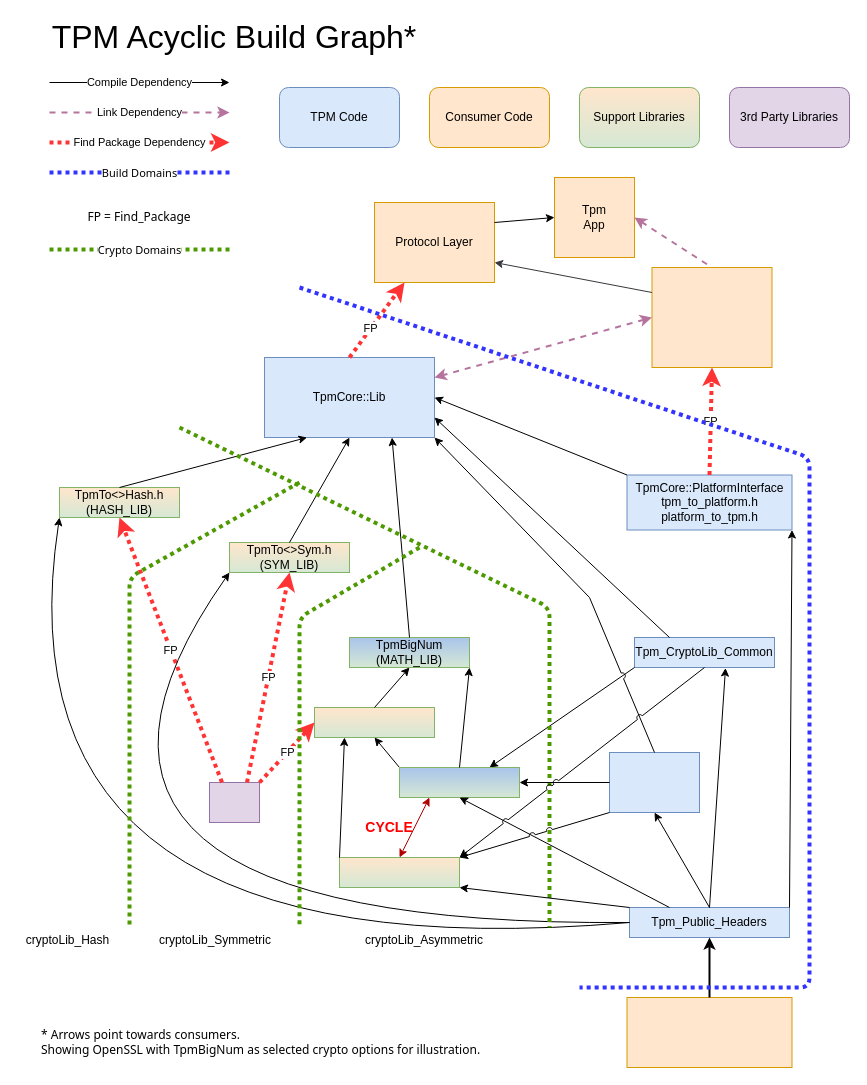
The diagram is 867 pixels wide and 1085 high, and some of its shapes have lost their labels. Each missing label, with the centre of its shape:
"BnToOssl (BN_MATH_LIB)" belongs at point (374, 722).
"BnToOssl_Headers" belongs at point (399, 872).
"ossl" belongs at point (234, 802).
"Platform Library" belongs at point (711, 317).
"Tpm_ Private_ Headers" belongs at point (654, 782).
"TpmBigNum::Headers" belongs at point (459, 782).
"TpmPlatform::ConfigHeaders --- tpmConfig.h vendorInfo.h" belongs at point (709, 1032).
